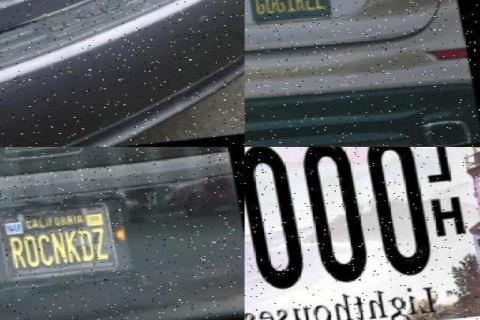LicensePlate: (244, 147, 442, 320), (0, 205, 114, 282), (244, 0, 330, 29)
